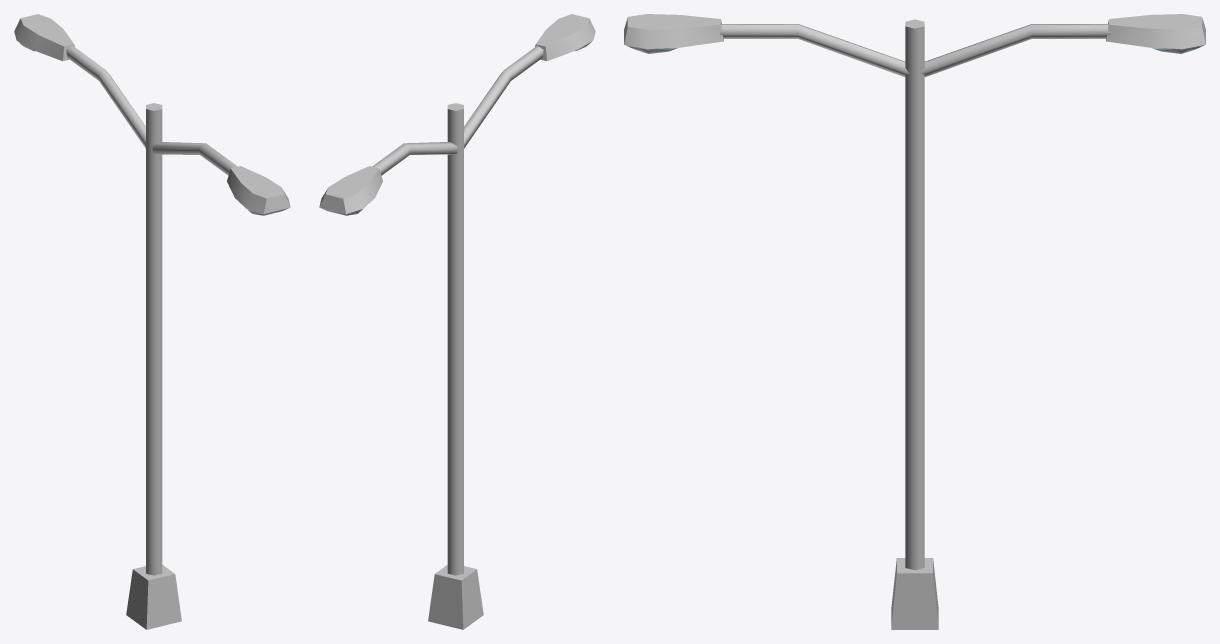
Rendered from streetLight02.fbx.
The picture shows the model from 3 angles, left to right: view 1: azimuth 30°, elevation 25°; view 2: azimuth 150°, elevation 25°; view 3: azimuth 270°, elevation 25°; orthographic projection. The views are drawn at different scales.
Parts seen in each view (by area): view 1: streetLight02; view 2: streetLight02; view 3: streetLight02.
Boxes of the visible parts, left/top/right/bottom form: streetLight02: left=14, top=14, right=290, bottom=629; streetLight02: left=319, top=14, right=595, bottom=629; streetLight02: left=624, top=14, right=1205, bottom=629.
Bounding box in the file's own units: 66.81 × 776 × 686.
